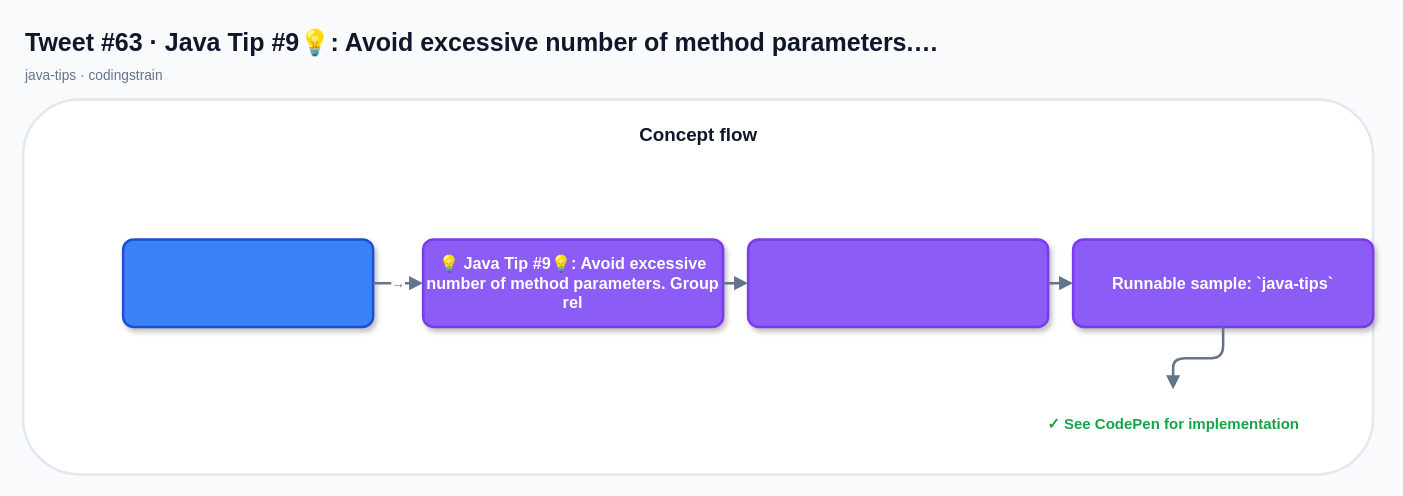
This 1403x496 diagram has some shape labels left out. Each missing label, with the centre of its shape:
"Java Tip #9💡: Avoid excessive number of method parameters. Group relat" belongs at point (898, 284).
"Problem / context" belongs at point (248, 284).
